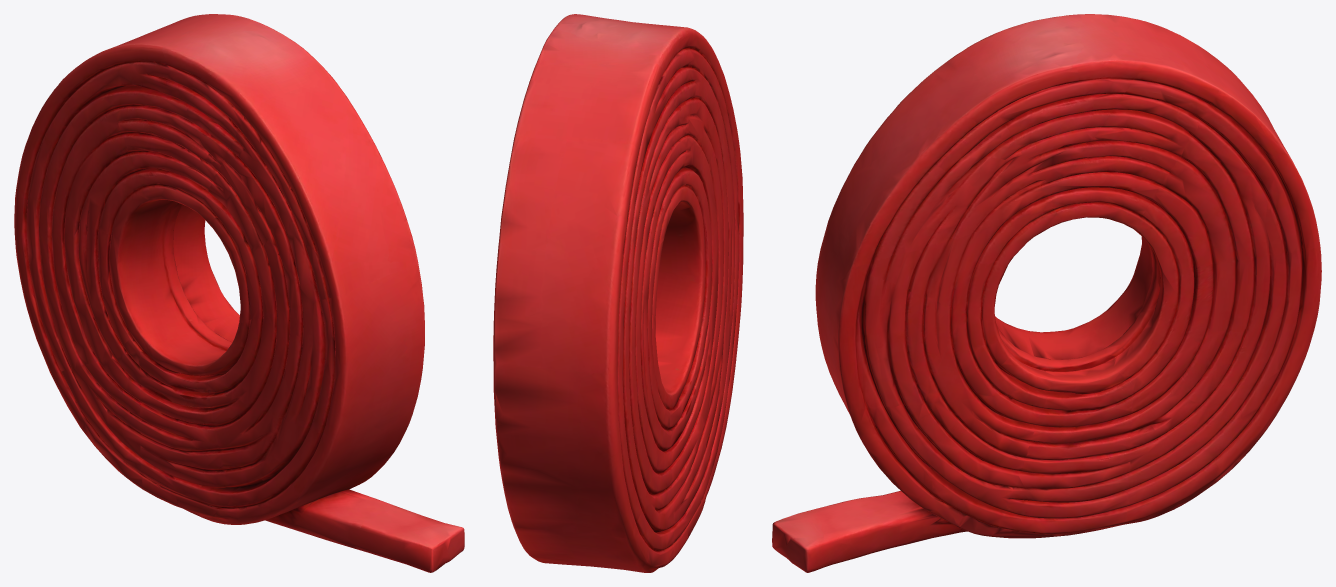
The model's file is yhswellbar.glb.
The picture shows the model from 3 angles, left to right: view 1: azimuth 30°, elevation 25°; view 2: azimuth 150°, elevation 25°; view 3: azimuth 270°, elevation 25°; orthographic projection. The views are drawn at different scales.
Visible parts, largest first — view 1: tripo_node_17b519c3-c44c-4cf6-8719-e43e380f5a8e; view 2: tripo_node_17b519c3-c44c-4cf6-8719-e43e380f5a8e; view 3: tripo_node_17b519c3-c44c-4cf6-8719-e43e380f5a8e.
Boxes of the visible parts, box(x1,y1,x2,y2) form: tripo_node_17b519c3-c44c-4cf6-8719-e43e380f5a8e: box(14, 14, 464, 572); tripo_node_17b519c3-c44c-4cf6-8719-e43e380f5a8e: box(493, 14, 743, 572); tripo_node_17b519c3-c44c-4cf6-8719-e43e380f5a8e: box(772, 14, 1321, 572).
Size of the model in its own units: 0.497 by 0.9654 by 0.9995.
1 material, 1 textured.
